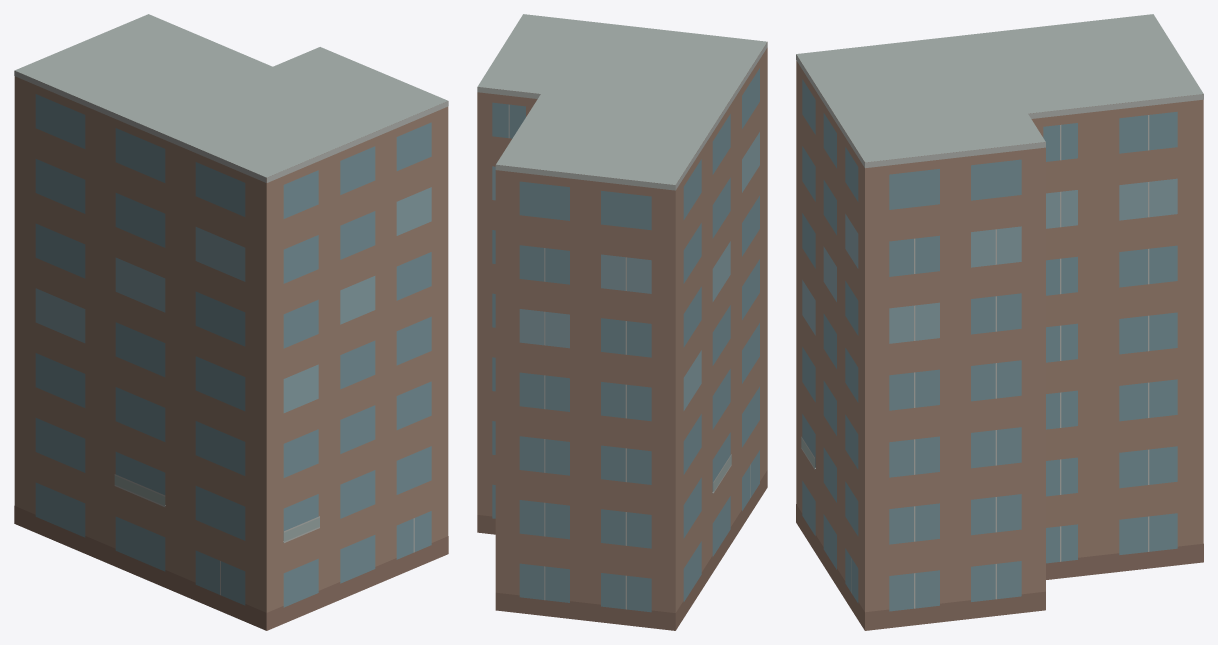
Rendered from survey-upis-33007153.glb.
3 renders of one model, left to right at view 1: azimuth 30°, elevation 25°; view 2: azimuth 150°, elevation 25°; view 3: azimuth 270°, elevation 25°, orthographic. The views are drawn at different scales.
Parts seen in each view (by area): view 1: survey-upis-33007153.tmp; view 2: survey-upis-33007153.tmp; view 3: survey-upis-33007153.tmp.
Boxes of the visible parts, left/top/right/bottom form: survey-upis-33007153.tmp: left=14, top=14, right=448, bottom=630; survey-upis-33007153.tmp: left=477, top=14, right=767, bottom=630; survey-upis-33007153.tmp: left=796, top=14, right=1203, bottom=630.
Bounding box in the file's own units: 13.57 × 19.95 × 15.75.
